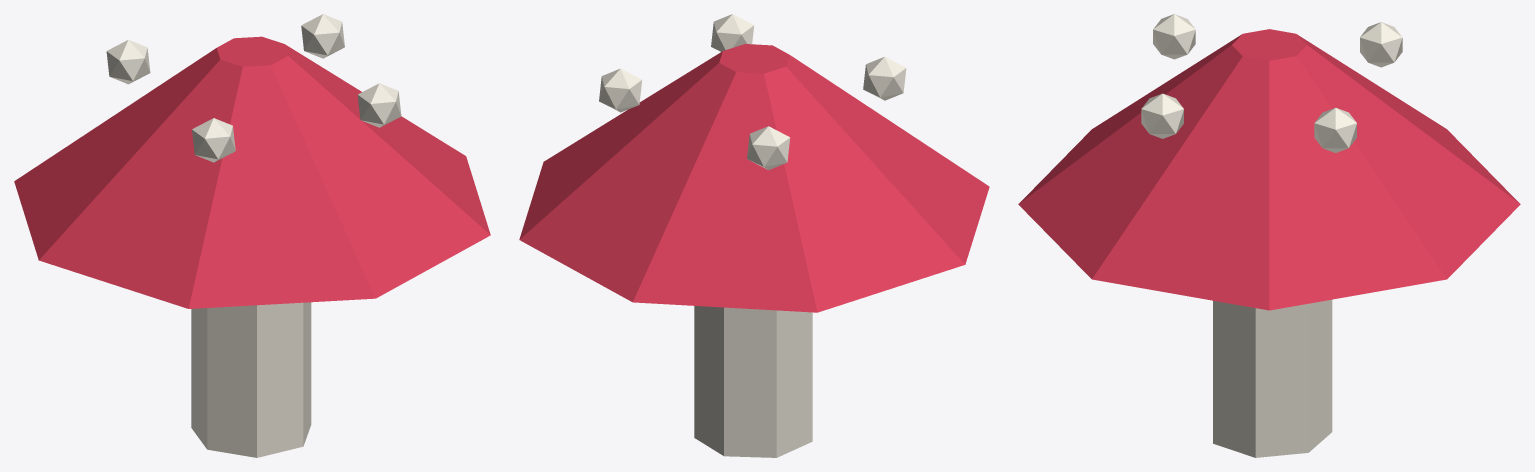
The model's file is sky_giant_mushroom.glb.
3 renders of one model, left to right at view 1: azimuth 30°, elevation 25°; view 2: azimuth 150°, elevation 25°; view 3: azimuth 270°, elevation 25°, orthographic. The views are drawn at different scales.
Visible parts, largest first — view 1: giant_mushroom; view 2: giant_mushroom; view 3: giant_mushroom.
Boxes of the visible parts, left/top/right/bottom form: giant_mushroom: left=14, top=14, right=490, bottom=457; giant_mushroom: left=519, top=14, right=989, bottom=457; giant_mushroom: left=1018, top=14, right=1520, bottom=457.
Bounding box in the file's own units: 2 × 1.7 × 2.
